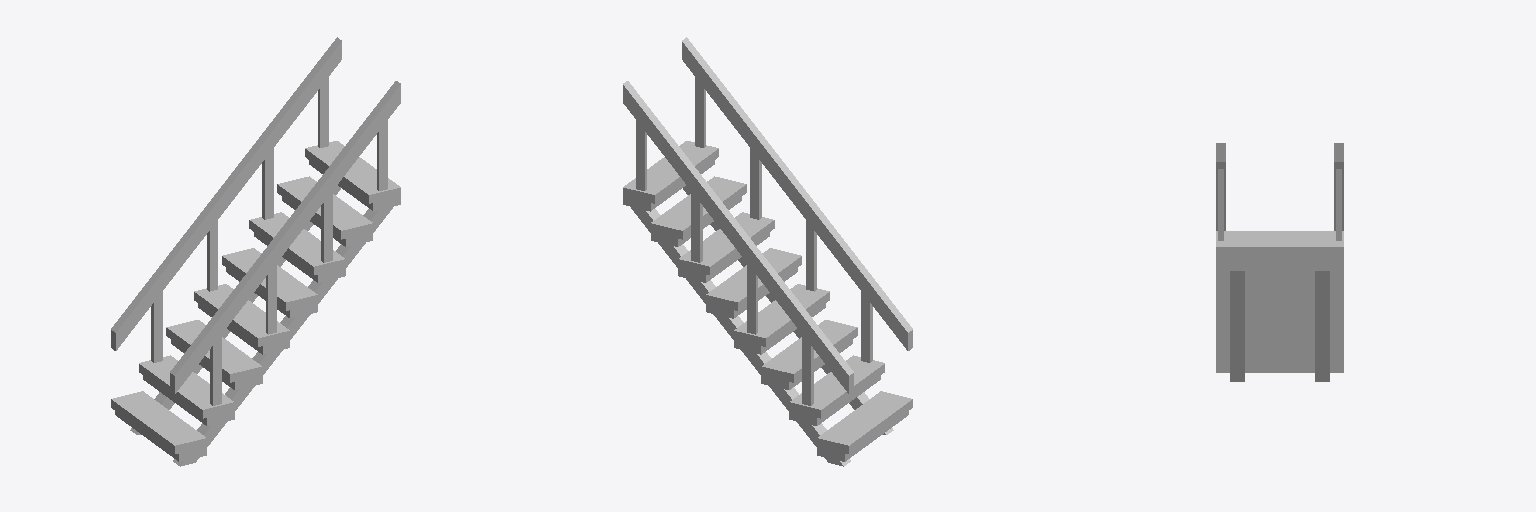
Rendered from stairs-wood-handrail.obj.
The picture shows the model from 3 angles: view 1: azimuth 30°, elevation 25°; view 2: azimuth 150°, elevation 25°; view 3: azimuth 270°, elevation 25°; orthographic projection.
Visible parts, largest first — view 1: stairs-wood-handrail; view 2: stairs-wood-handrail; view 3: stairs-wood-handrail.
Boxes of the visible parts, x1=… form: stairs-wood-handrail: x1=111, y1=37, x2=400, y2=466; stairs-wood-handrail: x1=623, y1=37, x2=912, y2=466; stairs-wood-handrail: x1=1216, y1=143, x2=1343, y2=381.
Bounding box in the file's own units: 1.02 × 1.45 × 0.5.